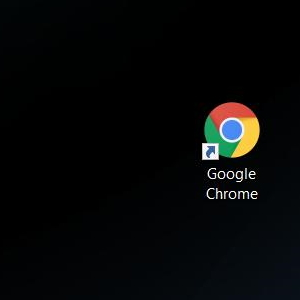chrome: (201, 101, 259, 160)
